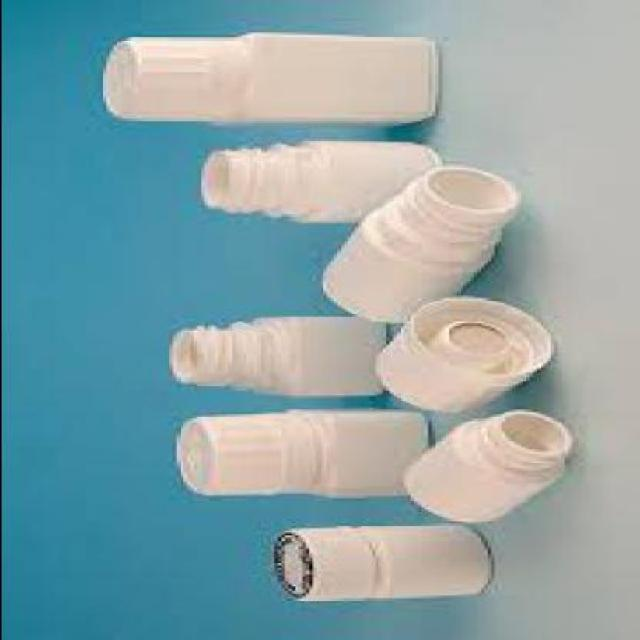PLASTIC: (95, 28, 433, 128), (314, 161, 520, 321), (171, 405, 427, 498), (195, 134, 437, 223), (367, 296, 556, 407), (395, 409, 574, 522), (161, 312, 381, 393), (269, 524, 494, 596), (98, 32, 248, 118), (172, 410, 314, 493), (269, 526, 374, 596)
